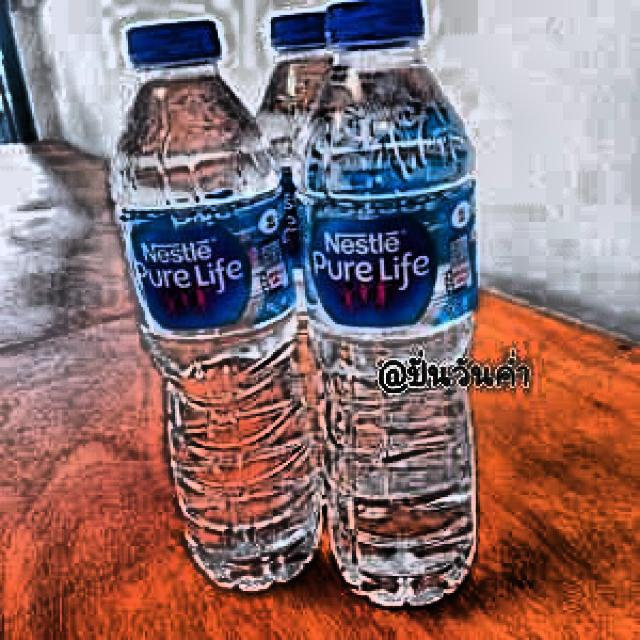Bottles: (102, 14, 335, 606)
